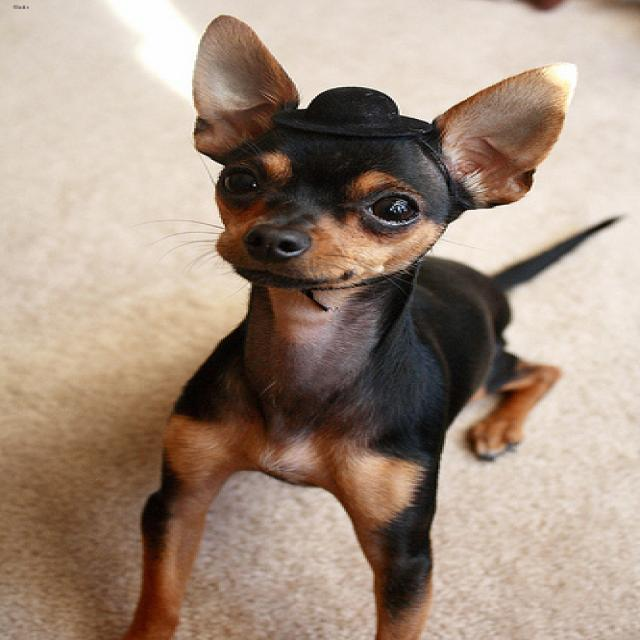dog-chihuahua: (108, 1, 634, 637)
